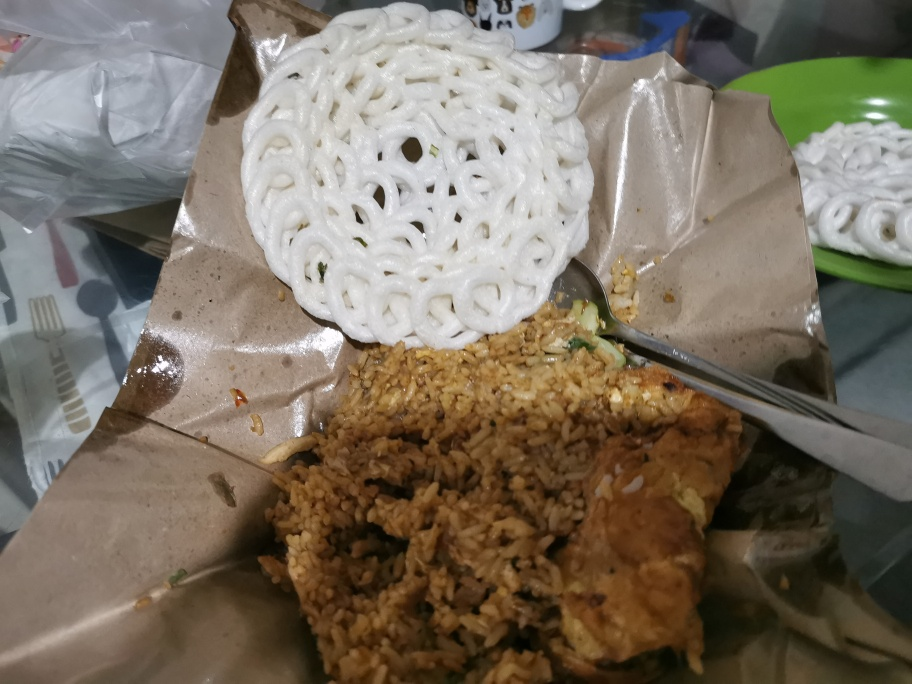kerupuk: (247, 5, 593, 344)
nasi goreng: (285, 345, 732, 680)
